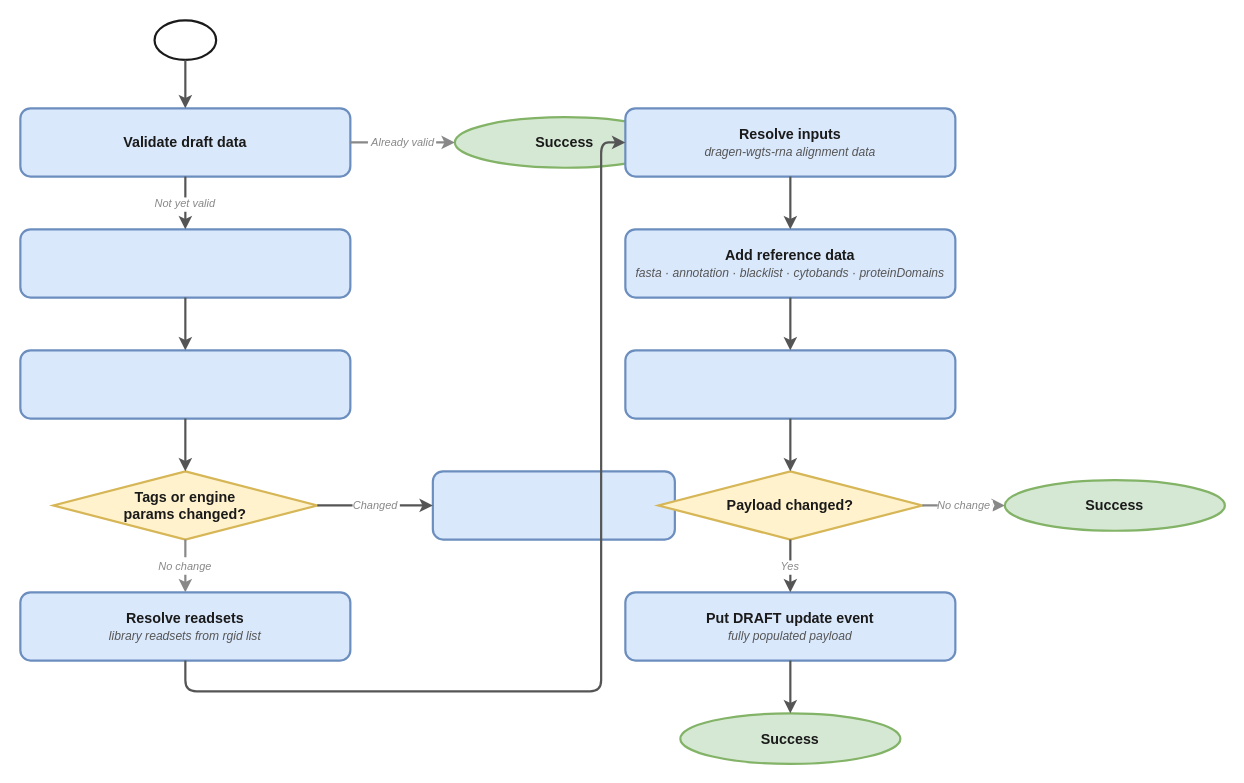
The diagram is 1244 pixels wide and 783 high, and some of its shapes have lost their labels. The shapes that lost their labels are listed below. From the top down, each one's centre as x and y in pixels, then its label:
At pixel 185 40: "Start".
At pixel 185 263: "Resolve engine parameters projectId · pipelineId · outputUri · logsUri".
At pixel 185 384: "Resolve library tags fastqRgidList · subjectId · individualId".
At pixel 790 384: "Compare payload generate WRU object + diff old vs new".
At pixel 553 505: "Put DRAFT update event tags / params updated".
